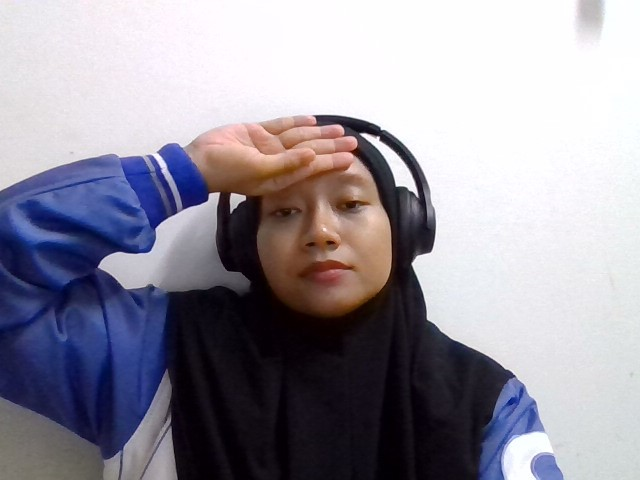Demam: (209, 114, 372, 220)
